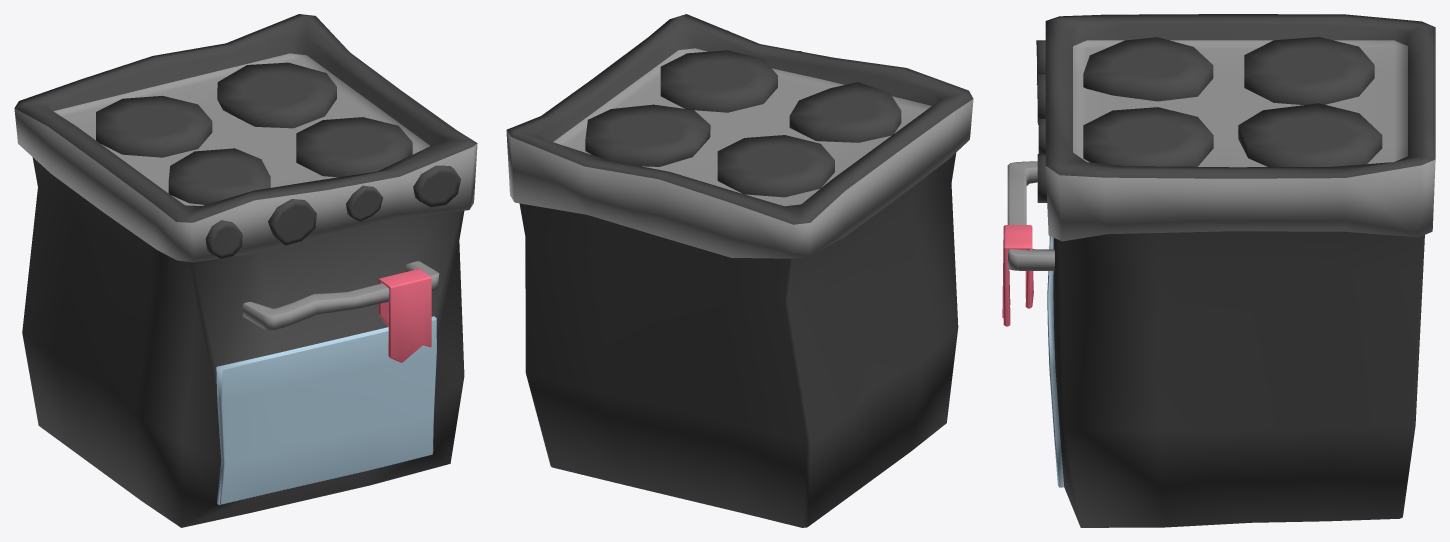
File: props_stove.fbx
The picture shows the model from 3 angles, left to right: view 1: azimuth 30°, elevation 25°; view 2: azimuth 150°, elevation 25°; view 3: azimuth 270°, elevation 25°; orthographic projection. The views are drawn at different scales.
Parts seen in each view (by area): view 1: Stove; view 2: Stove; view 3: Stove.
Boxes of the visible parts, x1=… form: Stove: x1=14, y1=14, x2=477, y2=527; Stove: x1=506, y1=14, x2=973, y2=527; Stove: x1=1002, y1=14, x2=1435, y2=527.
Bounding box in the file's own units: 105 × 111 × 117.
